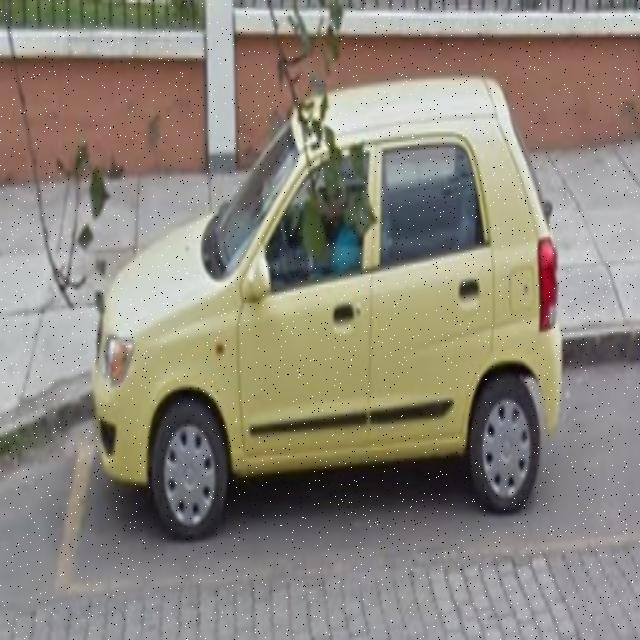cars: (97, 86, 566, 533)
